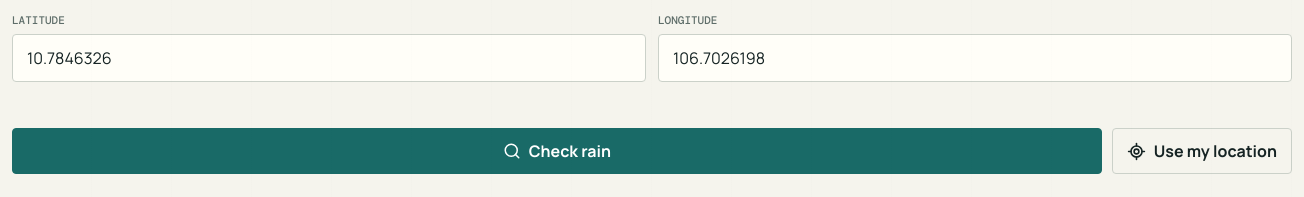
Test: LocationControls › blocks coordinates outside valid bounds
Replace the text in the number field labelled "Latitude" with "91" at (329, 58), box top-left (12, 34), bottom-right (646, 82)
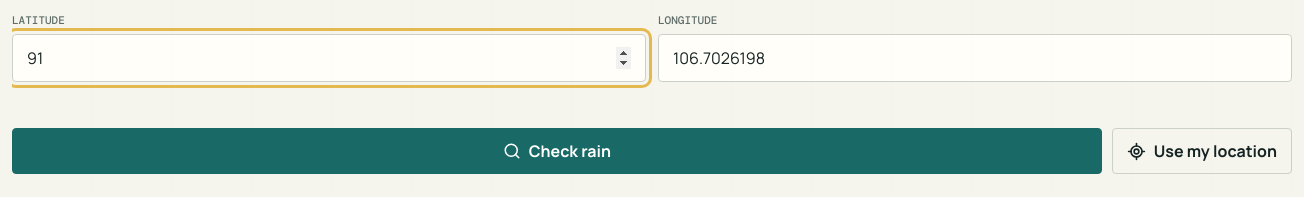
Click the button "Check rain" at (557, 151), box top-left (12, 128), bottom-right (1102, 174)
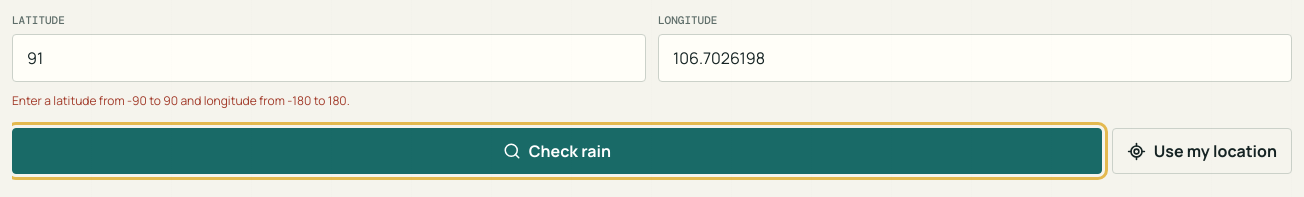
Expected: the message shows "latitude from -90 to 90", top-left (12, 92), bottom-right (350, 109)
